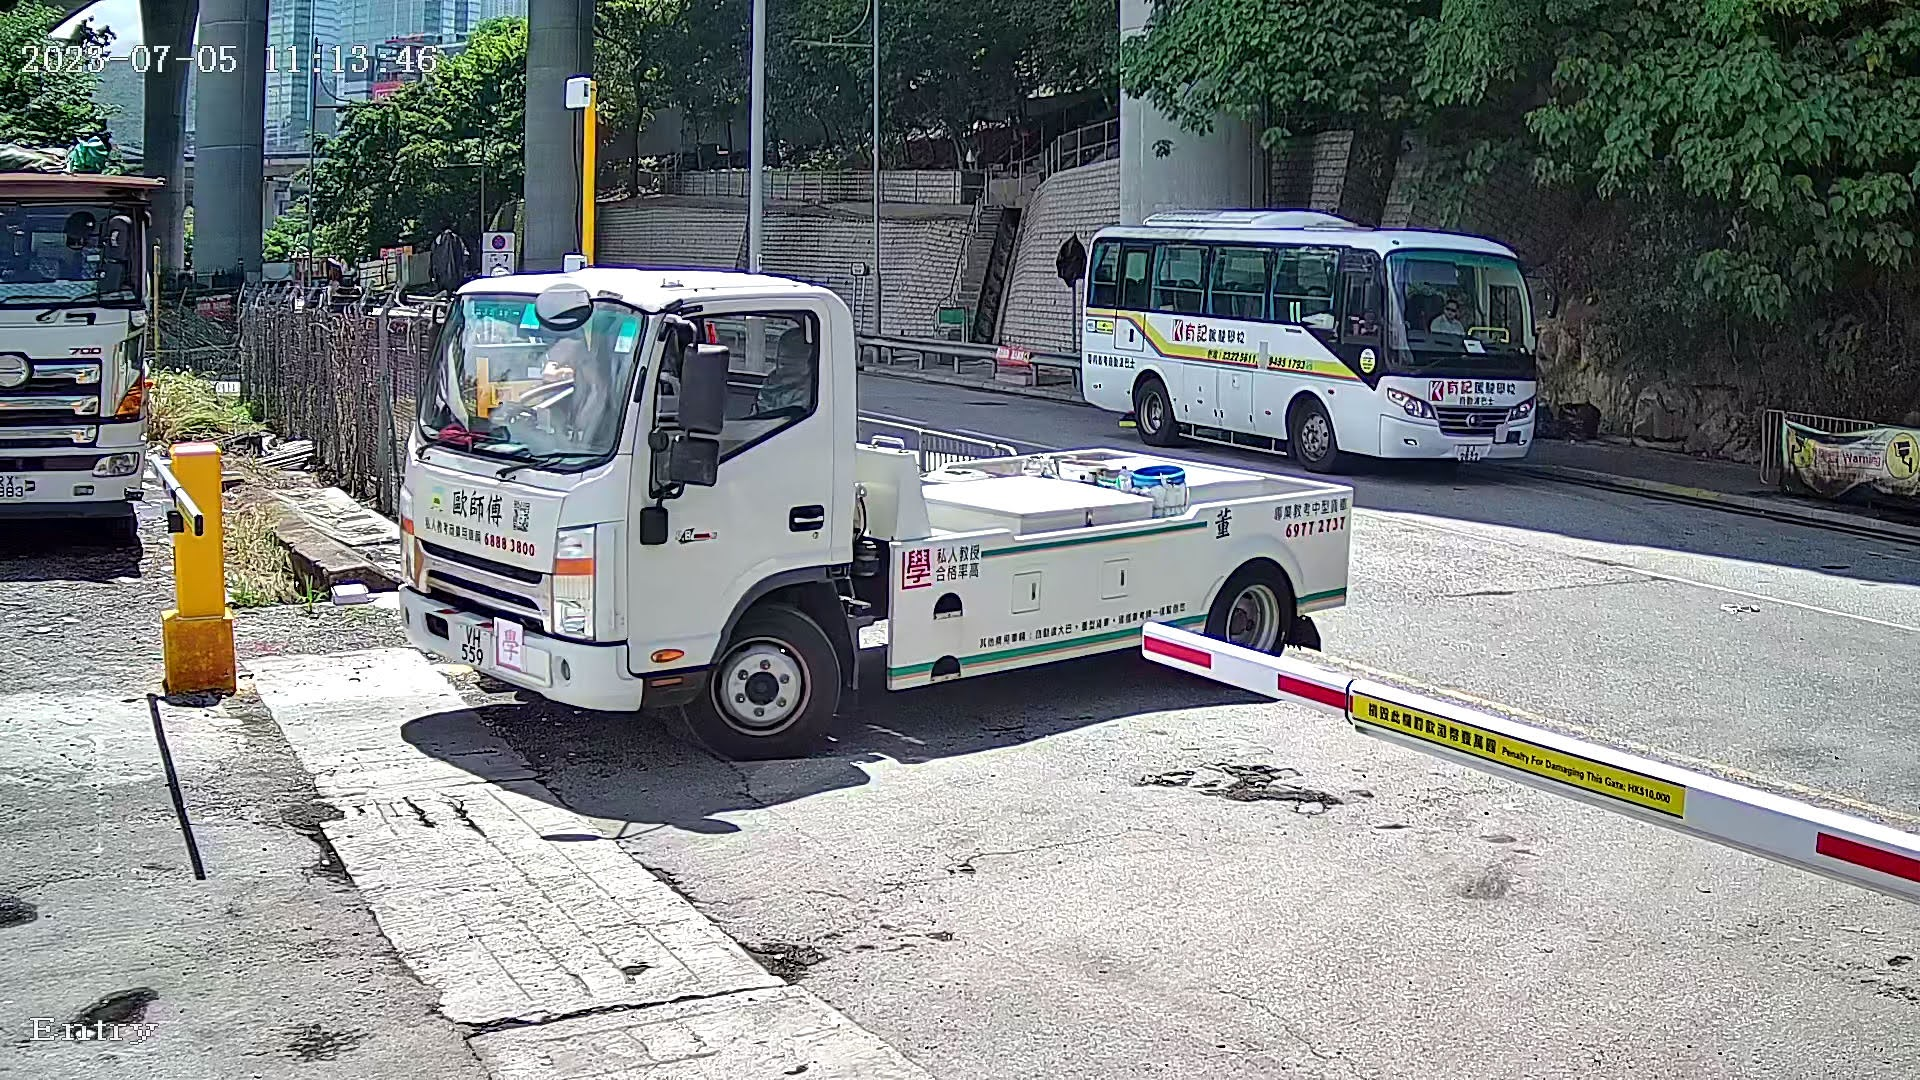truck_small: (316, 229, 1404, 791)
